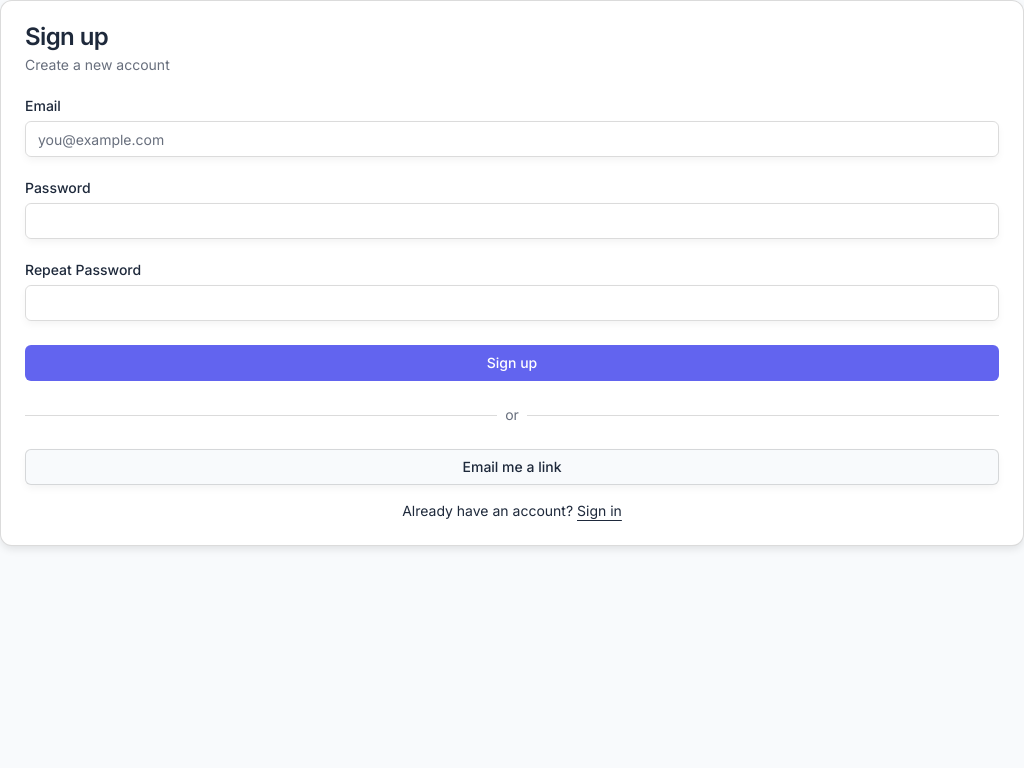
Test: SignUpForm › should show a length error when passwords are too short
The width and height of the screenshot is (1024, 768).
Type "new@example.com" into the field labelled "Email".
click(512, 139); type("new@example.com")  # box [25, 121, 999, 157]
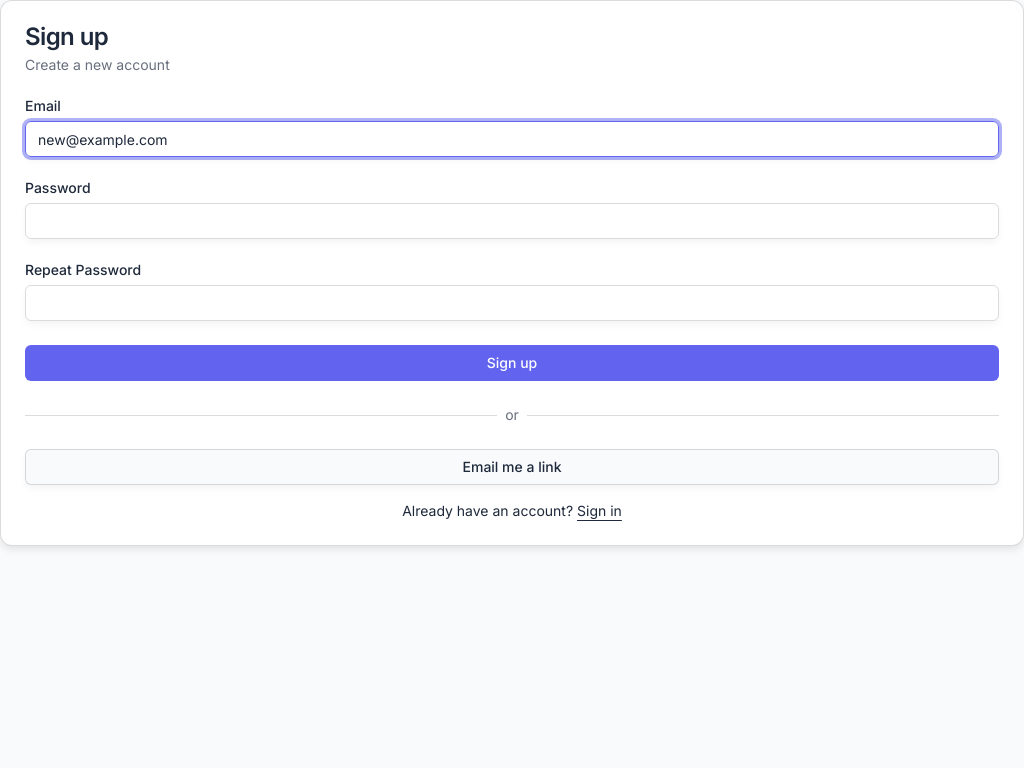
Type "1234567" into the password field labelled "Password".
click(512, 221); type("1234567")  # box [25, 203, 999, 239]
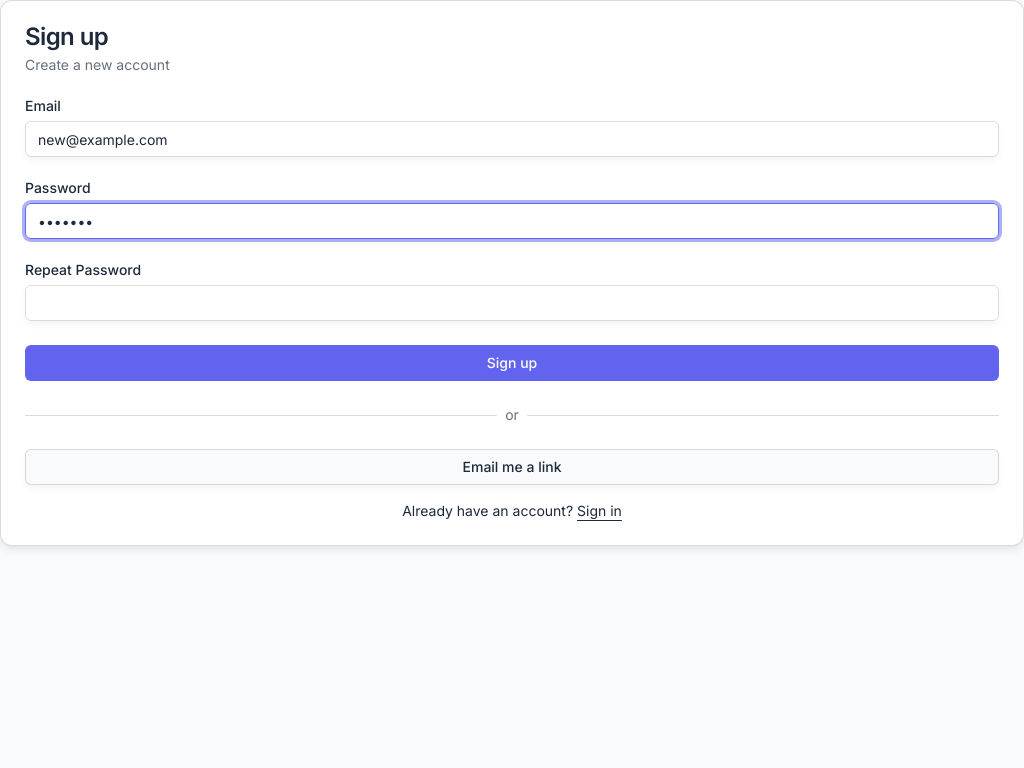
Type "1234567" into the password field labelled "Repeat Password".
click(512, 303); type("1234567")  # box [25, 285, 999, 321]
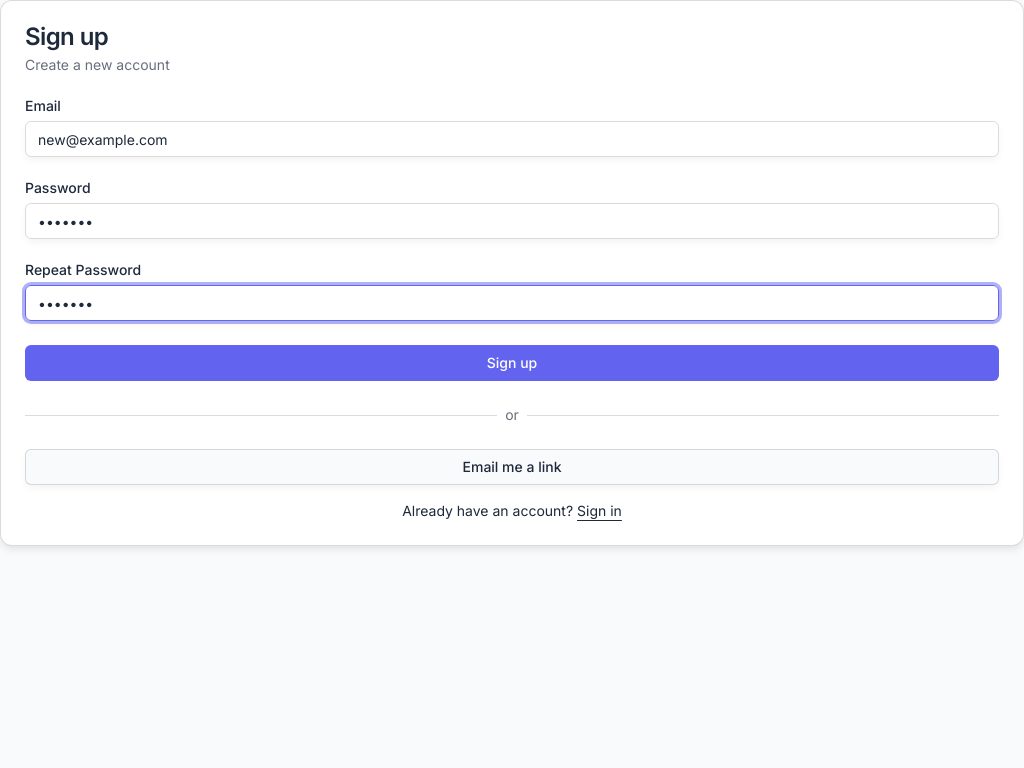
Click the button "Sign up".
click(512, 363)  # box [25, 345, 999, 381]
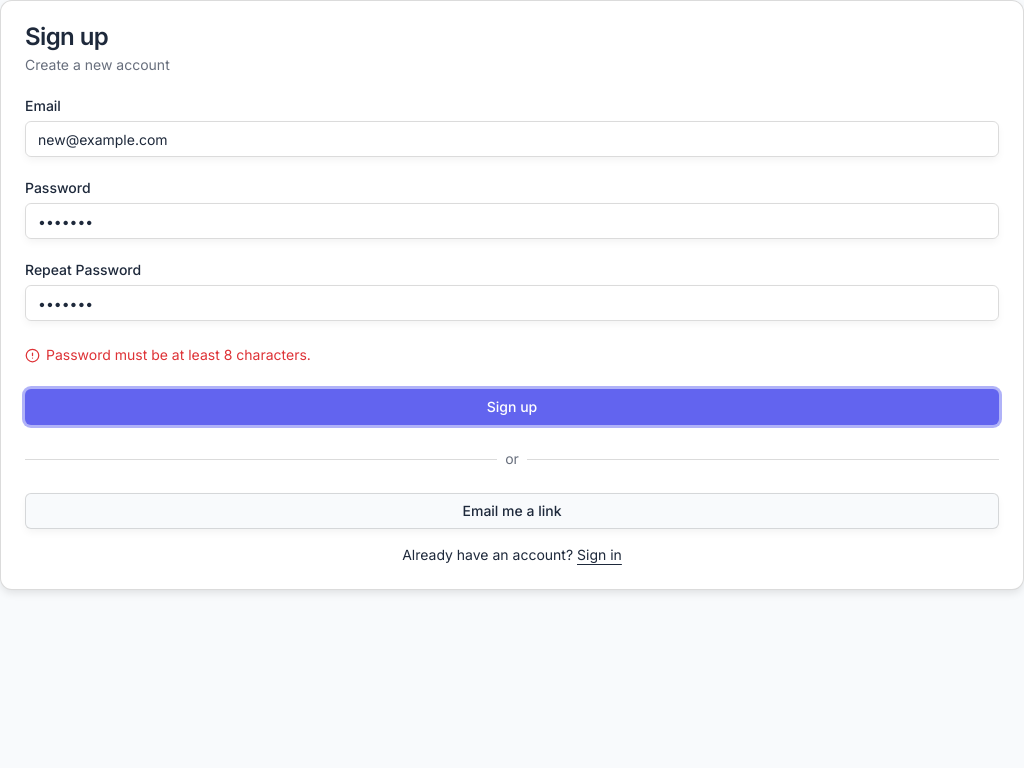
Check: the text "Password must be at least 8 characters." is shown, box [25, 346, 311, 363]
